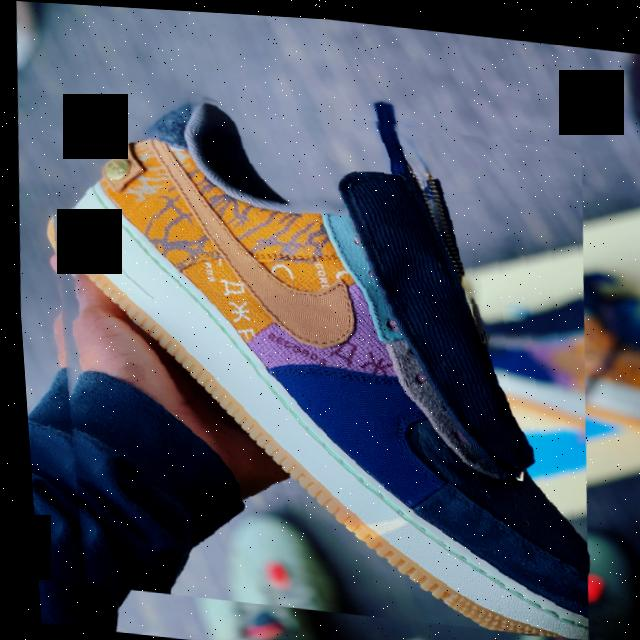shoe: (13, 70, 607, 635)
